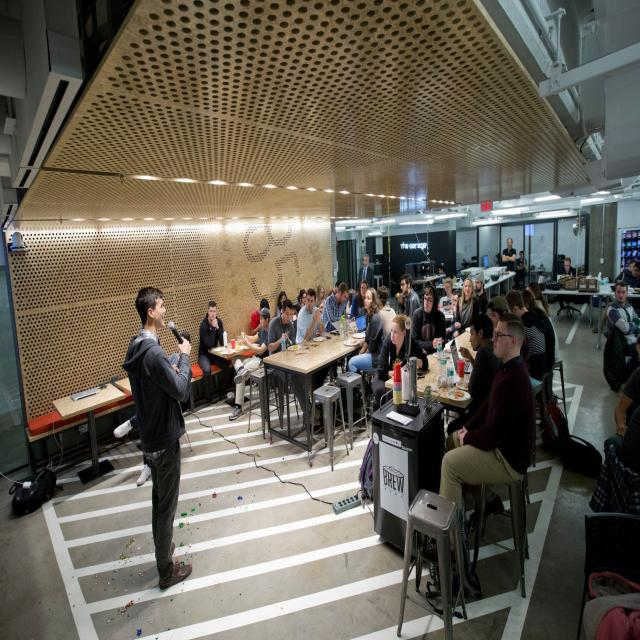body: (437, 312, 538, 548), (120, 285, 194, 592), (112, 331, 192, 486), (267, 297, 321, 427), (446, 312, 503, 434), (372, 314, 428, 412), (345, 286, 387, 416), (228, 306, 272, 422), (604, 337, 640, 477), (524, 282, 560, 409), (295, 288, 331, 405), (503, 290, 548, 382), (485, 295, 531, 377), (197, 300, 230, 402), (322, 281, 356, 380), (520, 290, 556, 375), (411, 285, 447, 356), (604, 280, 640, 345), (450, 277, 480, 342), (326, 281, 356, 334), (374, 284, 398, 340), (297, 288, 320, 345), (396, 272, 422, 318), (558, 256, 577, 318), (445, 288, 462, 345), (348, 280, 370, 324), (250, 298, 270, 336), (357, 253, 375, 293), (475, 271, 489, 314), (513, 250, 527, 292), (501, 236, 517, 272), (613, 260, 637, 284), (276, 290, 292, 323), (290, 302, 302, 345), (438, 279, 454, 309), (622, 258, 637, 286), (315, 283, 325, 313), (346, 288, 357, 314), (434, 265, 447, 286), (318, 299, 325, 314), (297, 294, 302, 306)
